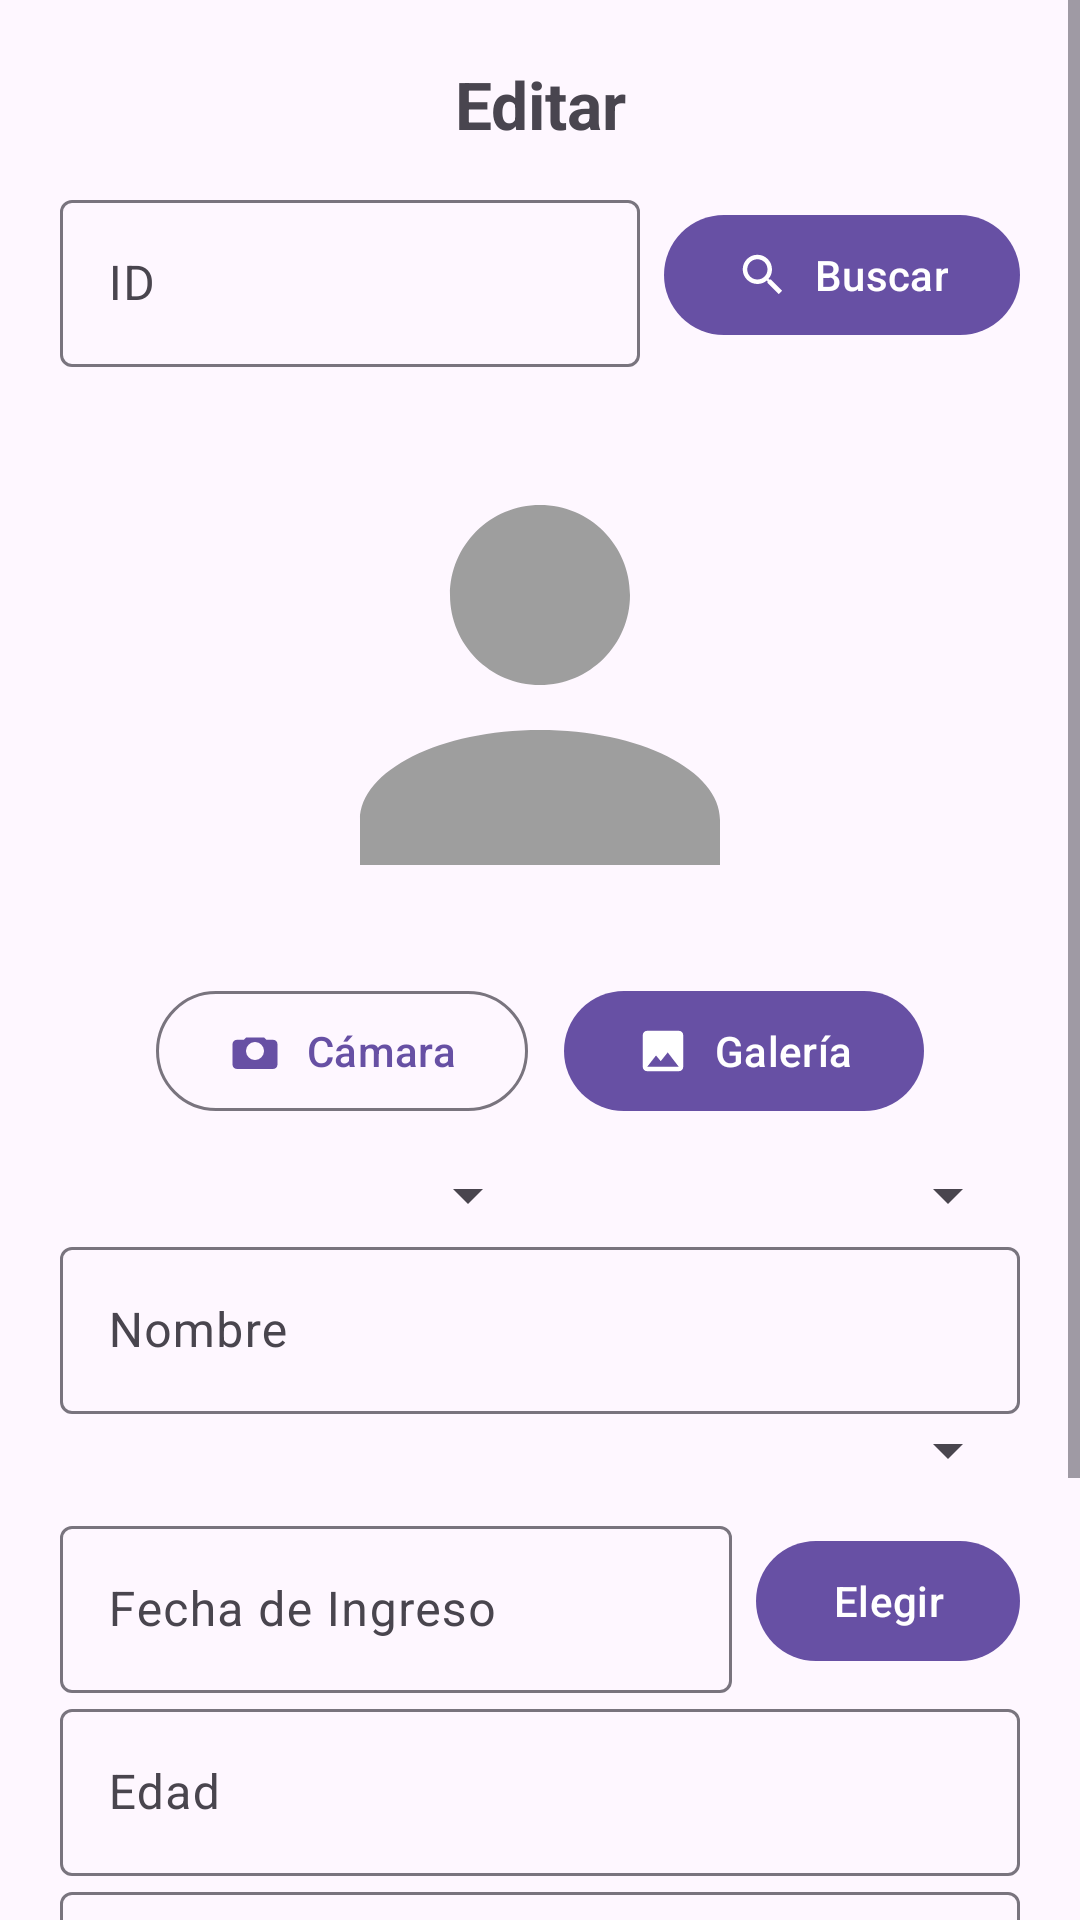

Icons on this 1080w x 1920h Android screen, each with the point to tap as point (x, y):
Información Paciente: point (540, 685)
